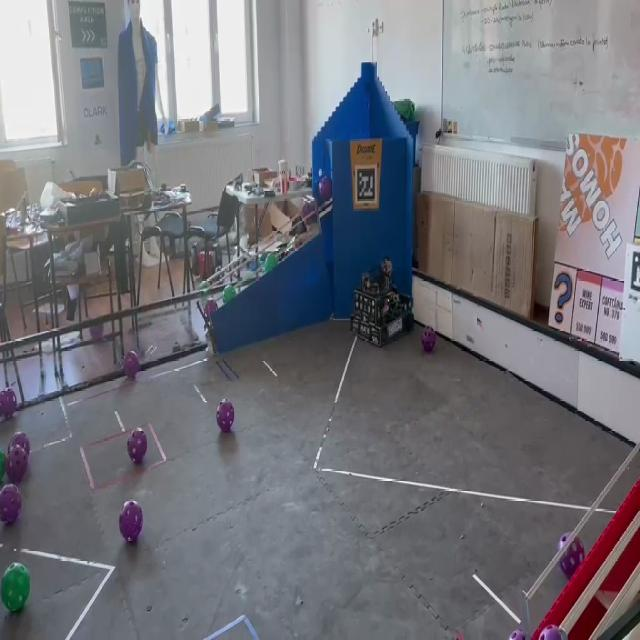artifact_green: (0, 564, 29, 612), (265, 254, 278, 273), (223, 285, 236, 303), (0, 451, 6, 482), (199, 282, 210, 297), (199, 282, 209, 292)
artifact_purple: (558, 534, 585, 579), (119, 501, 143, 543), (0, 485, 21, 525), (7, 445, 28, 484), (127, 428, 147, 464), (217, 399, 234, 433), (8, 433, 30, 457), (0, 388, 16, 418), (124, 352, 139, 380), (422, 327, 436, 353), (302, 201, 317, 223), (319, 177, 332, 202), (539, 626, 562, 639), (205, 298, 218, 321), (90, 325, 103, 341), (302, 202, 313, 218), (509, 629, 526, 639), (0, 391, 4, 416)
